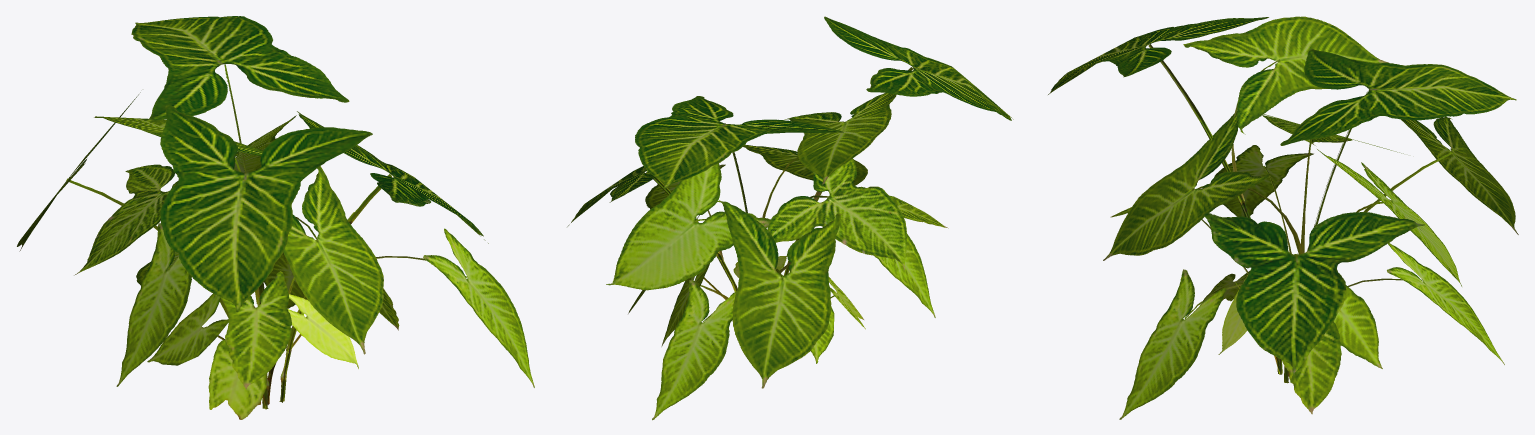
The model's file is Q_Plant_Arrow_2.fbx.
3 views of the same model, side by side, from view 1: azimuth 30°, elevation 25°; view 2: azimuth 150°, elevation 25°; view 3: azimuth 270°, elevation 25° (orthographic). The views are drawn at different scales.
Parts seen in each view (by area): view 1: _2a6e_Var3_LOD2; view 2: _2a6e_Var3_LOD2; view 3: _2a6e_Var3_LOD2.
Part boxes in pixels (box(x1,y1,x2,y2)): _2a6e_Var3_LOD2: box(17, 16, 534, 419); _2a6e_Var3_LOD2: box(567, 16, 1013, 420); _2a6e_Var3_LOD2: box(1048, 16, 1518, 419).
Size of the model in its own units: 20.36 by 15.66 by 21.51.
Materials: 1 (1 with a texture image).
